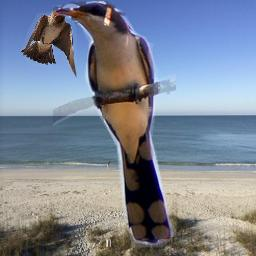Cuckoo: (53, 1, 176, 248)
Swallow: (21, 8, 77, 78)
